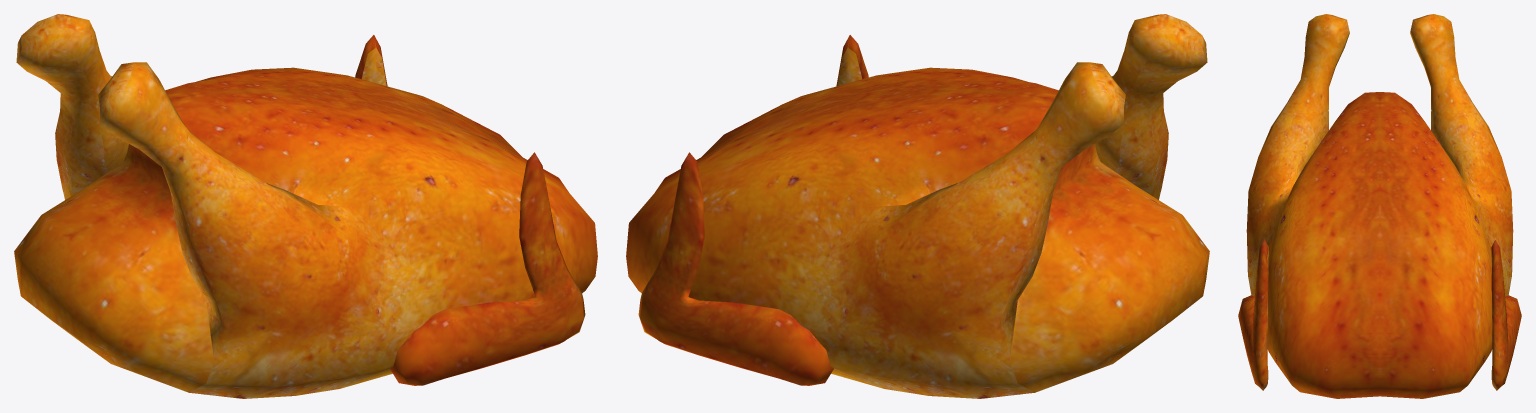
Rendered from chicken.glb.
3 renders of one model, left to right at view 1: azimuth 30°, elevation 25°; view 2: azimuth 150°, elevation 25°; view 3: azimuth 270°, elevation 25°, orthographic. The views are drawn at different scales.
Parts seen in each view (by area): view 1: Object_2; view 2: Object_2; view 3: Object_2.
Part boxes in pixels (<box>): Object_2: <box>14,14,597,398</box>; Object_2: <box>626,14,1209,398</box>; Object_2: <box>1238,14,1521,398</box>.
Size of the model in its own units: 35.92 by 23.27 by 24.33.
1 material, 1 textured.
